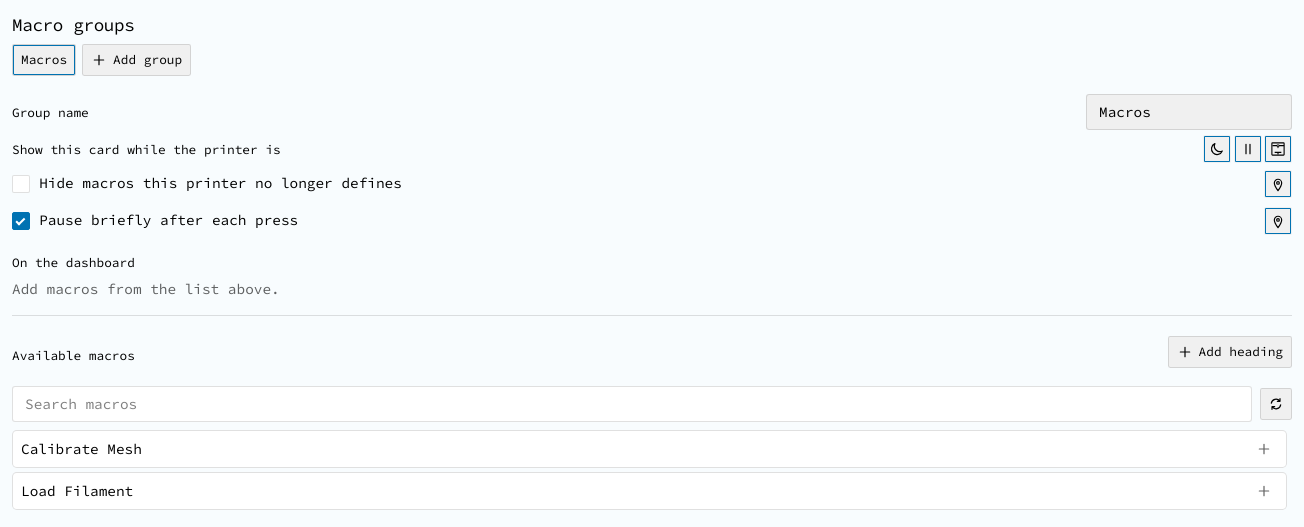
Test: MacrosSettingsPane › finds a macro by the label on the screen, not only its underscored name
The image size is (1304, 527).
In the search field with id "dashboard-macro-search": (632, 404) [12,386,1252,422], type "calibrate mesh"
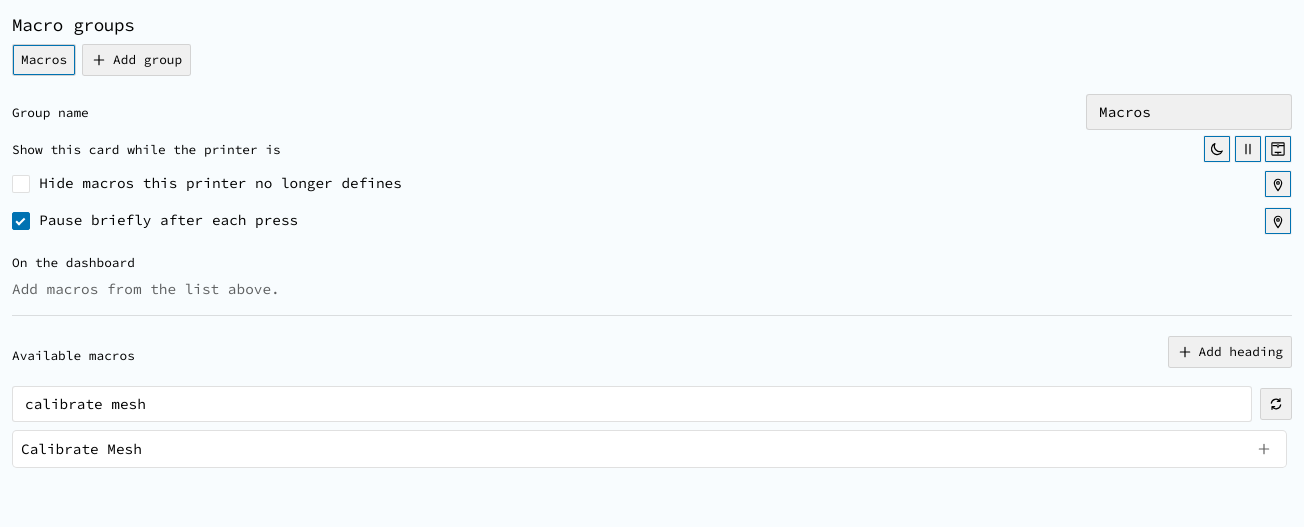
Expected: the number of list items with class "macro-row" is 1, [12,430,1287,468]
